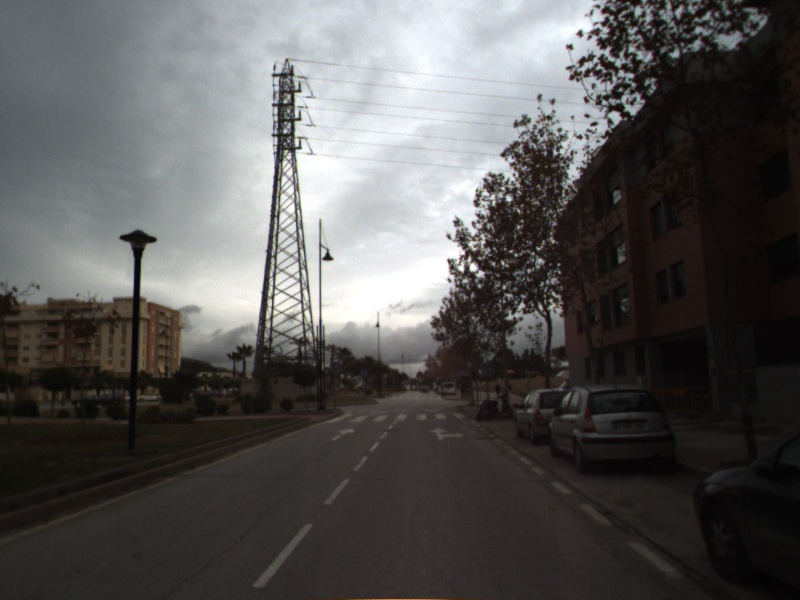STRAIGHT: (328, 425, 358, 443)
STRAIGHT_RIGHT: (427, 426, 467, 442)
